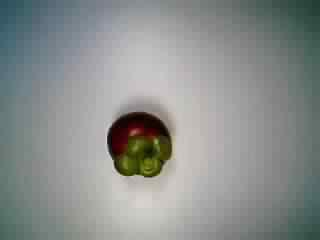mangosteen: (95, 107, 178, 182)
